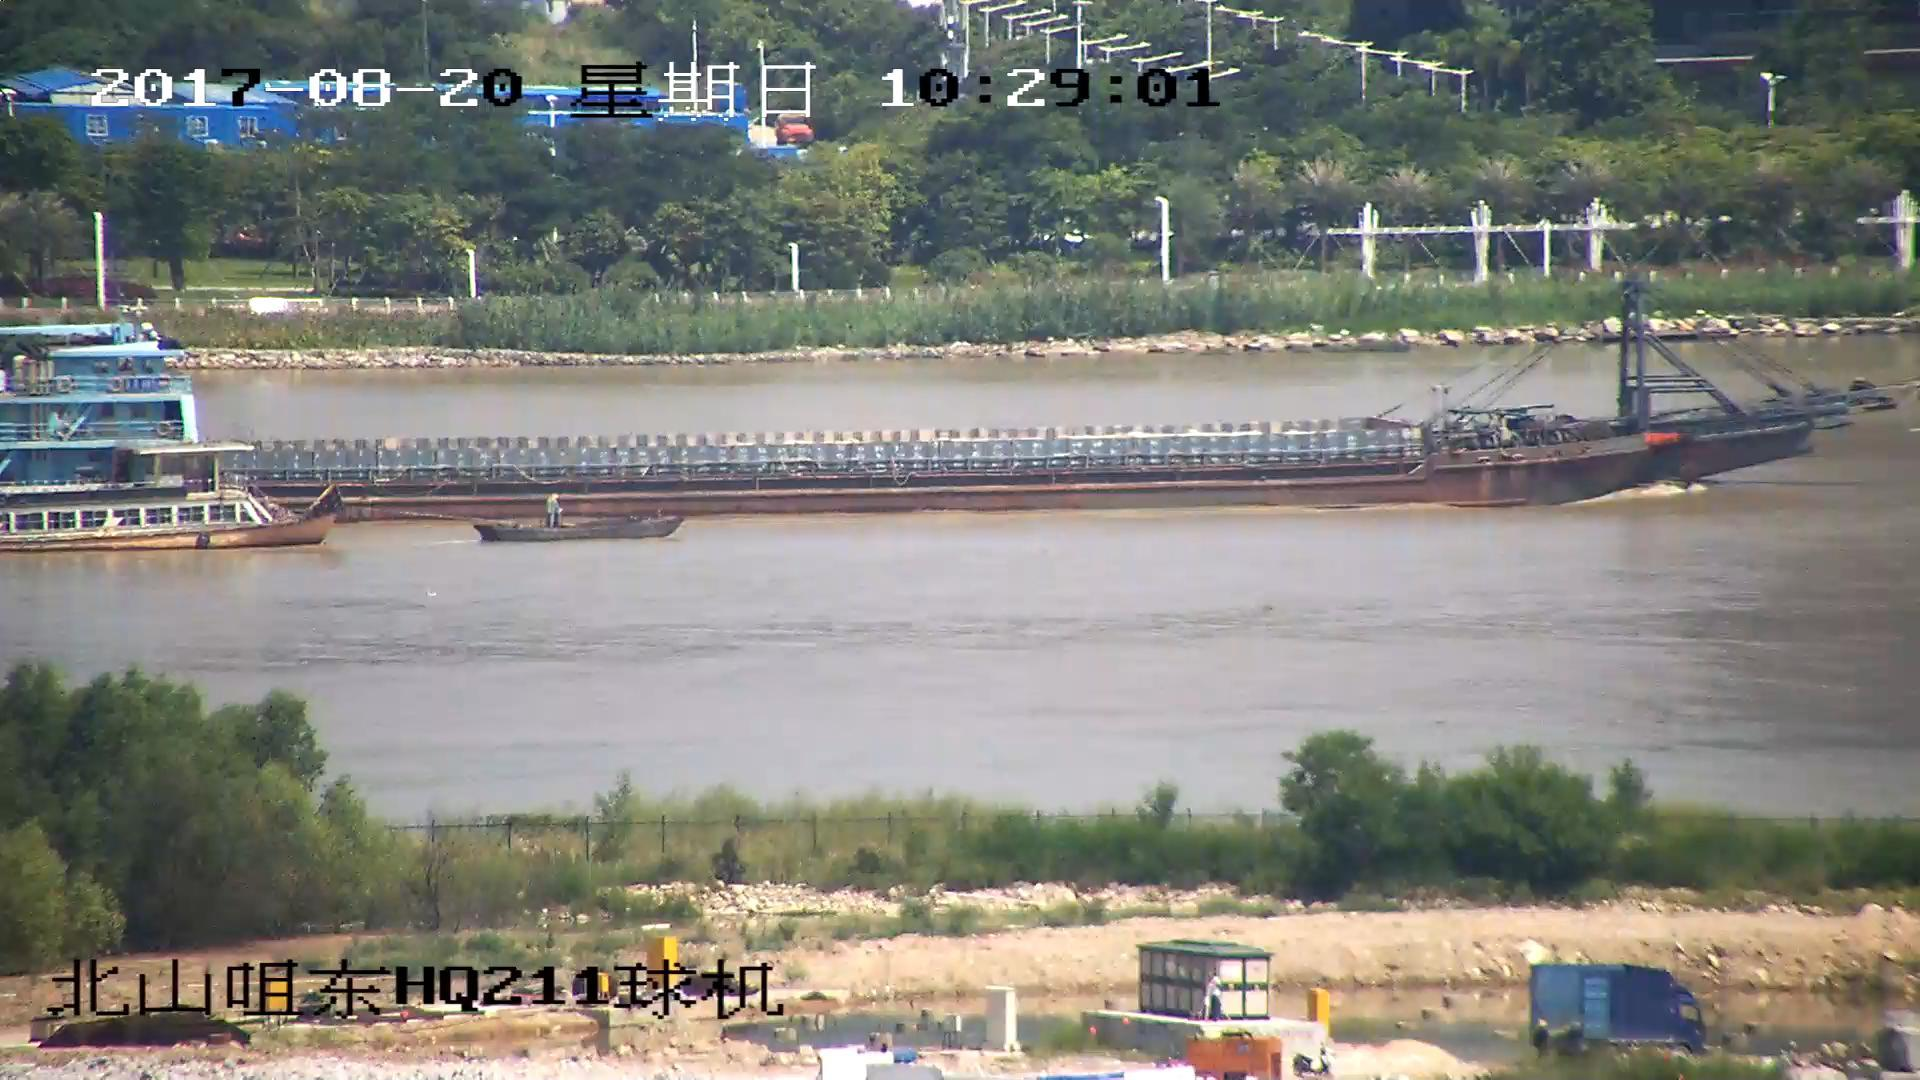Ship: (3, 268, 1903, 525), (3, 444, 345, 556), (483, 495, 684, 543)
